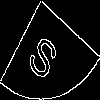S: (25, 25, 65, 83)
